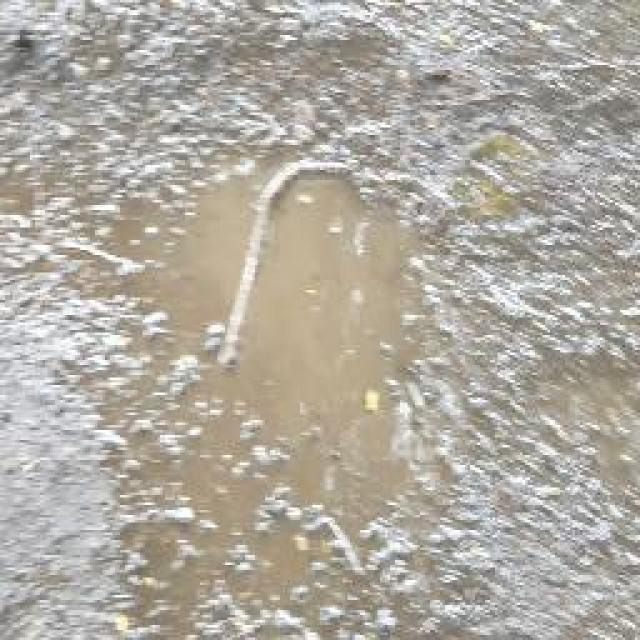stagnation: (140, 183, 420, 623)
